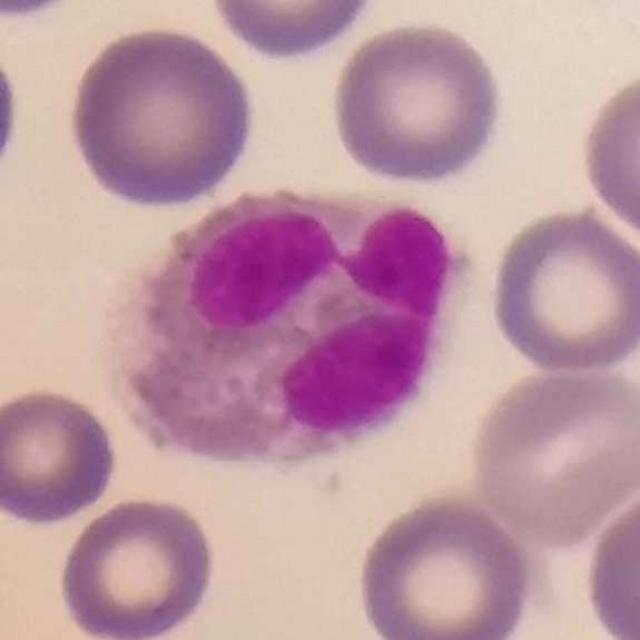eosino: (98, 185, 469, 468)
